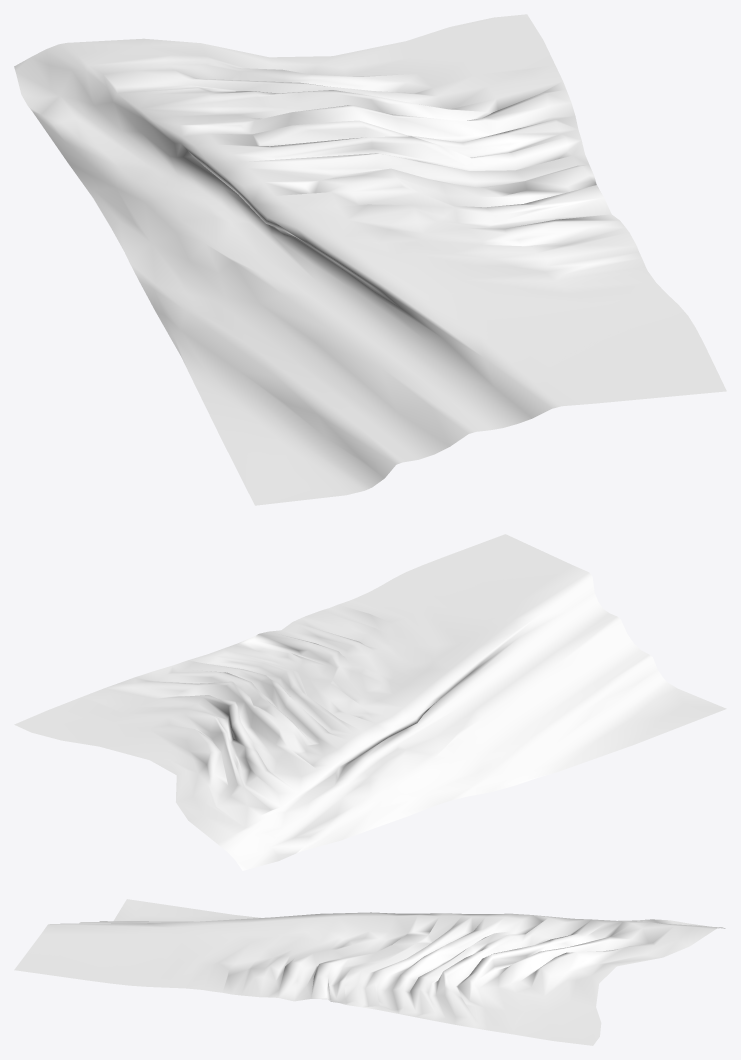
File: Rug3.fbx
3 renders of one model, top to bottom at view 1: azimuth 30°, elevation 25°; view 2: azimuth 150°, elevation 25°; view 3: azimuth 270°, elevation 25°, orthographic. The views are drawn at different scales.
Visible parts, largest first — view 1: RugLounge; view 2: RugLounge; view 3: RugLounge.
Part boxes in pixels (x1,y1,x2,y2): RugLounge: [14, 14, 726, 505]; RugLounge: [14, 534, 726, 870]; RugLounge: [14, 899, 725, 1045].
Bounding box in the file's own units: 151 × 25.91 × 225.
Materials: 1 (1 with a texture image).
